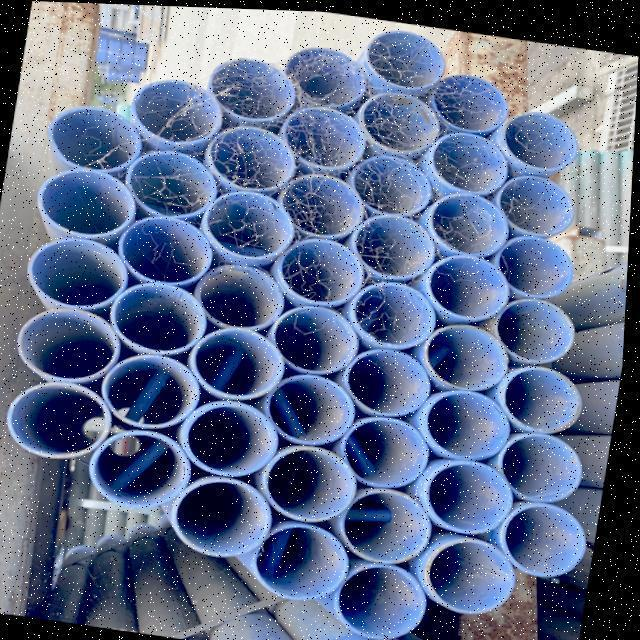pipe: (22, 304, 125, 390), (94, 427, 197, 512), (260, 519, 356, 609), (12, 380, 117, 461), (181, 474, 281, 557), (52, 101, 146, 180), (268, 441, 362, 520), (30, 233, 130, 307), (114, 279, 213, 352), (123, 210, 218, 286), (191, 398, 284, 475), (209, 181, 300, 259), (41, 166, 143, 235), (343, 560, 436, 635), (349, 406, 438, 483), (109, 352, 205, 423), (197, 322, 290, 395), (348, 484, 438, 559), (429, 457, 519, 530), (272, 370, 360, 444), (354, 276, 441, 350), (434, 535, 521, 609), (507, 497, 593, 571), (132, 73, 224, 142), (276, 301, 363, 373), (202, 258, 291, 328), (278, 169, 369, 237), (211, 120, 300, 188), (348, 345, 437, 413), (129, 144, 217, 212), (431, 384, 515, 455), (284, 233, 367, 304), (207, 54, 296, 120), (430, 248, 516, 316), (428, 319, 512, 387), (502, 288, 582, 359), (509, 427, 590, 497), (512, 361, 592, 430), (430, 184, 513, 250), (358, 209, 440, 275), (283, 104, 368, 167), (435, 125, 515, 190), (362, 86, 445, 148), (355, 148, 436, 211), (364, 25, 450, 84), (500, 166, 578, 231), (500, 231, 580, 294), (287, 42, 368, 102), (431, 66, 512, 125), (509, 106, 586, 167)
